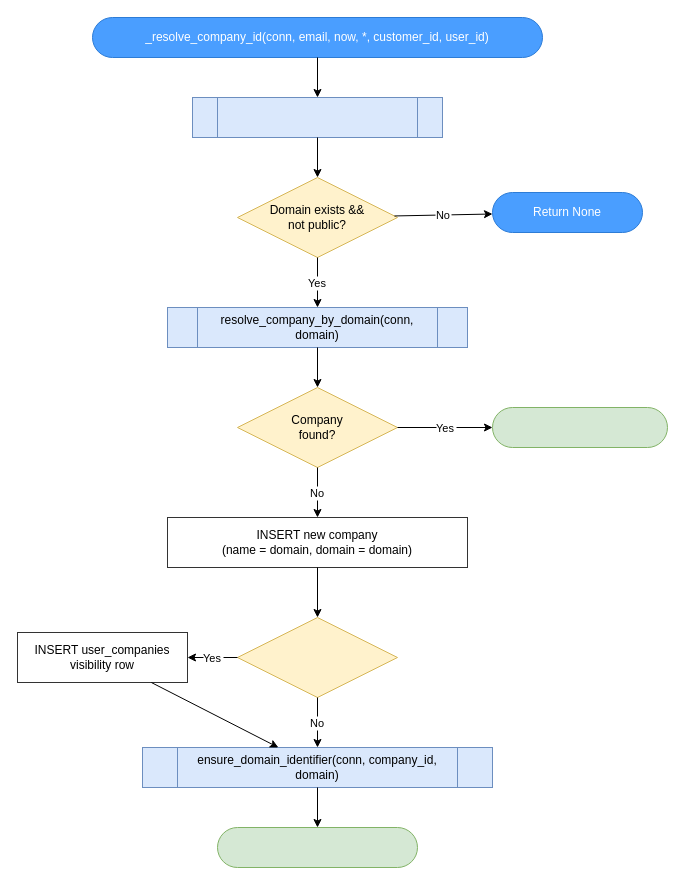
Some shapes in this 685 by 885 pixel diagram are drawn without their labels. Here are the shapes that lost their labels. From the top down, the box of each, then its label:
(192, 96, 442, 138): Extract domain from email
(492, 406, 668, 448): Return company["id"]
(236, 616, 398, 698): user_id provided?
(216, 826, 418, 868): Return company_id
